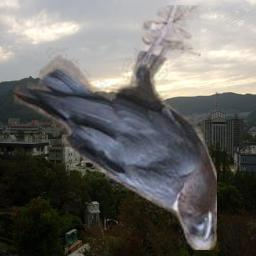Crow: (13, 5, 217, 250)
